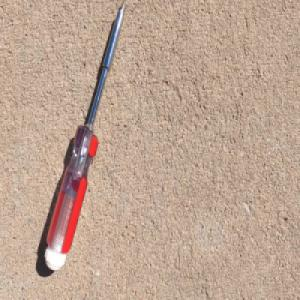Screwdriver: (44, 0, 128, 272)
